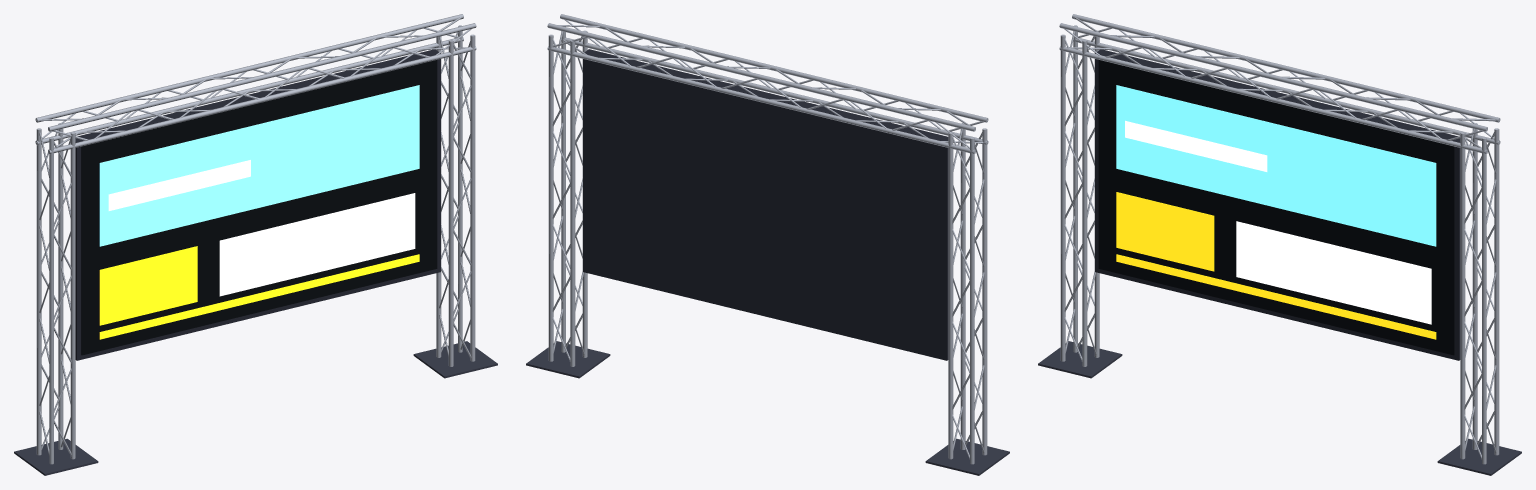
File: evt-008.glb
The picture shows the model from 3 angles, left to right: view 1: azimuth 30°, elevation 25°; view 2: azimuth 150°, elevation 25°; view 3: azimuth 330°, elevation 25°; orthographic projection.
Visible parts, largest first — view 1: monitor_screen, steel, pump_screen, display_white, sign_yellow, plastic_dark, dark_steel; view 2: plastic_dark, steel, dark_steel; view 3: monitor_screen, steel, pump_screen, display_white, sign_yellow, plastic_dark, dark_steel.
Part boxes in pixels (box(x1,y1,x2,y2)): monitor_screen: box(81, 60, 437, 355); steel: box(35, 14, 476, 464); pump_screen: box(99, 85, 419, 246); display_white: box(108, 160, 415, 296); sign_yellow: box(99, 246, 419, 339); plastic_dark: box(75, 49, 440, 360); dark_steel: box(14, 341, 497, 475); plastic_dark: box(583, 49, 948, 360); steel: box(547, 14, 988, 464); dark_steel: box(526, 341, 1009, 475); monitor_screen: box(1098, 60, 1454, 355); steel: box(1059, 14, 1500, 464); pump_screen: box(1116, 85, 1436, 246); display_white: box(1125, 120, 1431, 324); sign_yellow: box(1116, 192, 1436, 339); plastic_dark: box(1095, 49, 1460, 360); dark_steel: box(1038, 341, 1521, 475).
Size of the model in its own units: 5.1 by 3.64 by 0.6.
